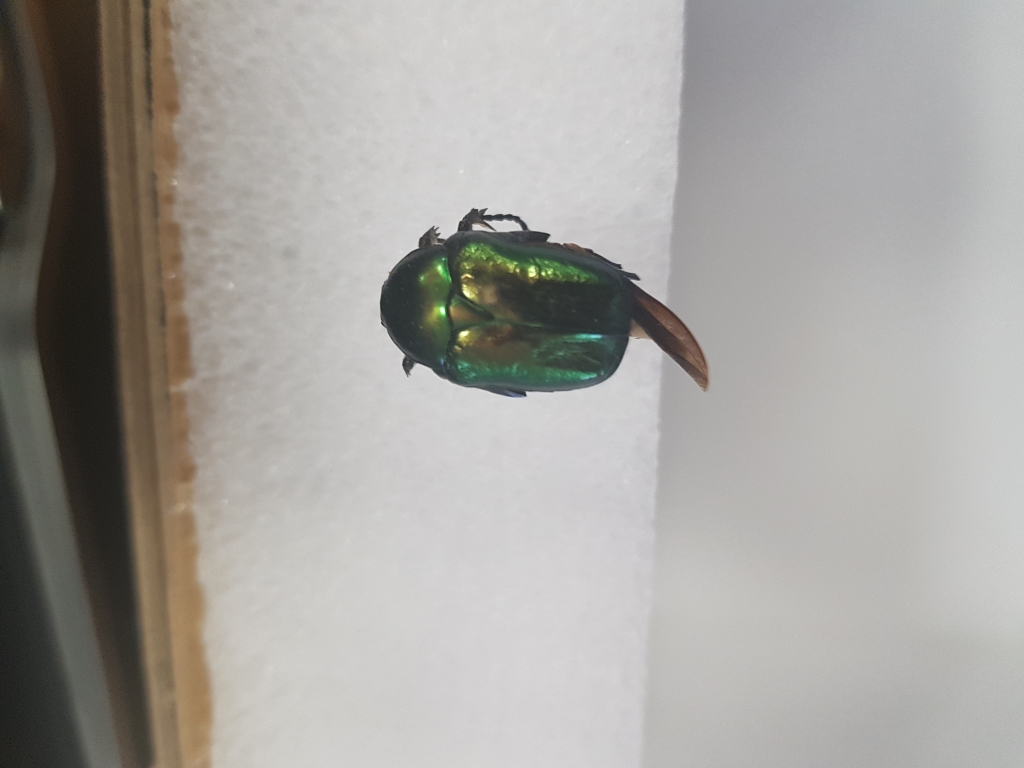Protaetia_angustata_angustata: (374, 197, 726, 428)
